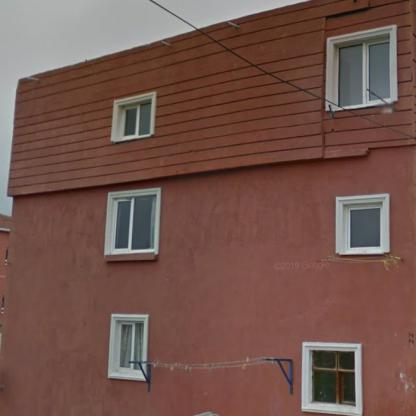window: (336, 37, 390, 108), (112, 193, 158, 251), (310, 349, 355, 406), (346, 203, 383, 249), (119, 320, 145, 373), (117, 101, 151, 138)
